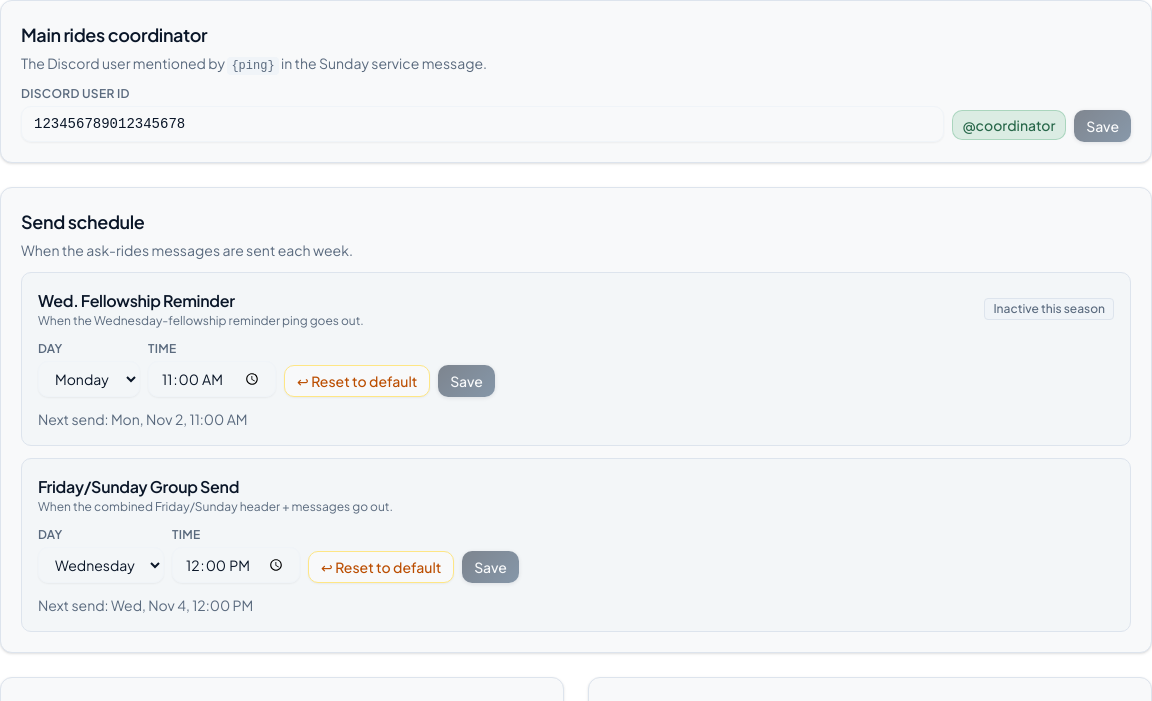
Test: MessageTemplatesEditor › loads the send schedule and saves a changed day/time
Expected: the time field labelled "Time" below "Wed. Fellowship Reminder" holds "11:00", [148, 361, 276, 397]
Select "Tuesday" in the dropdown labelled "Day" below "Wed. Fellowship Reminder" at (89, 379), box [38, 361, 140, 397]
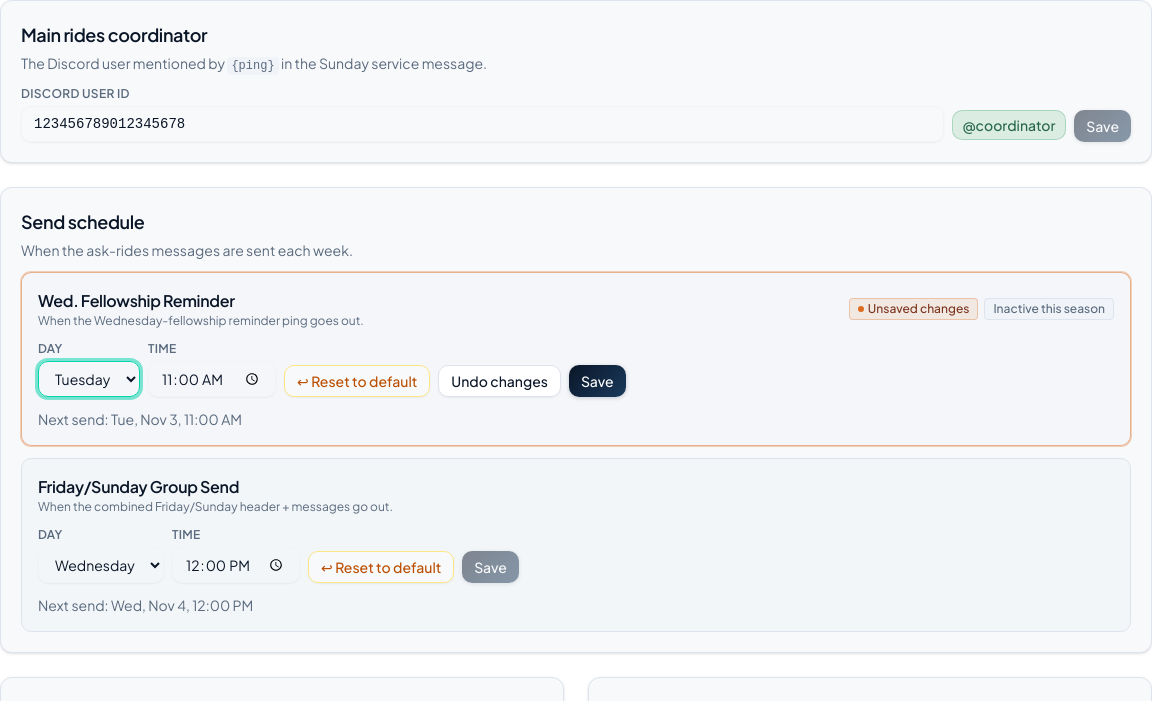
Replace the text in the time field labelled "Time" below "Wed. Fellowship Reminder" with "09:30" at (212, 379), box [148, 361, 276, 397]
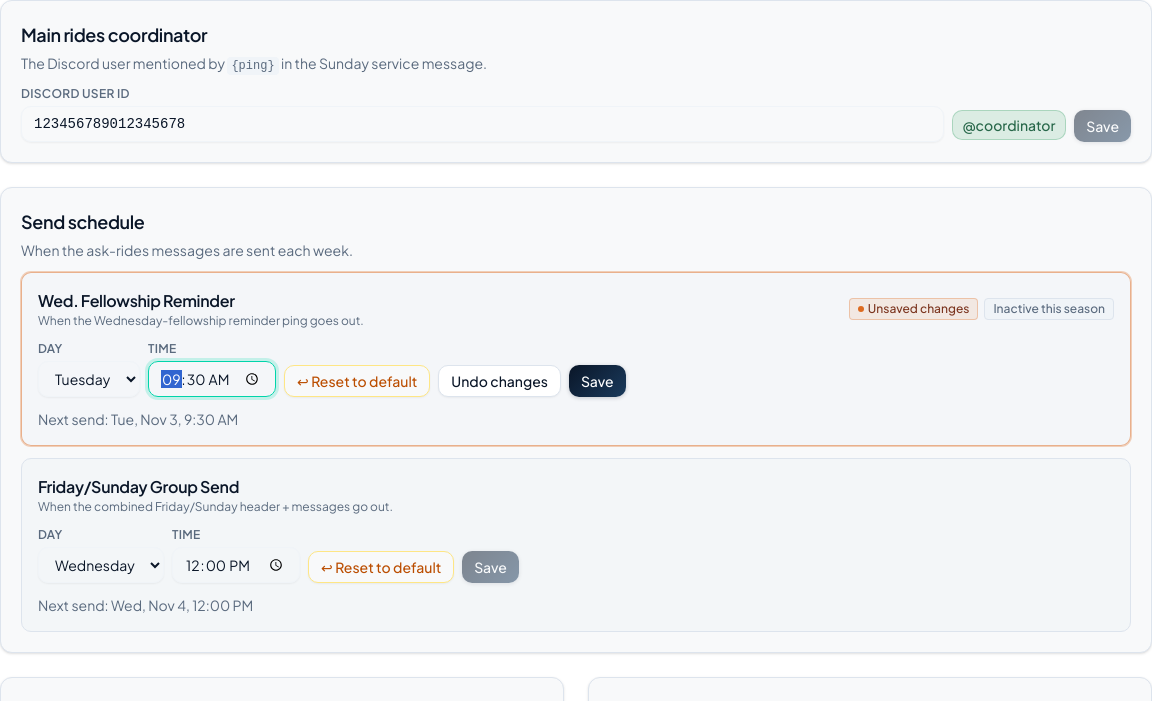
Click the button "Save" below "Unsaved changes" at (597, 381), box [569, 365, 626, 397]
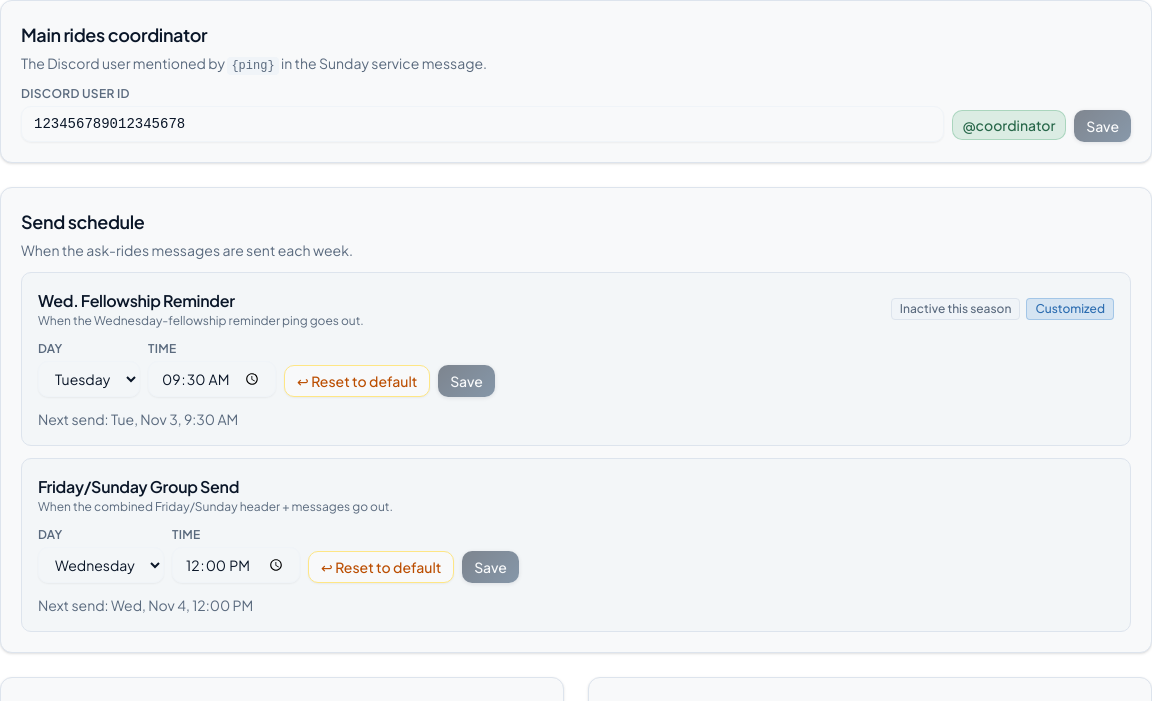
Now the text "Customized" is shown, box [1026, 298, 1114, 320]
